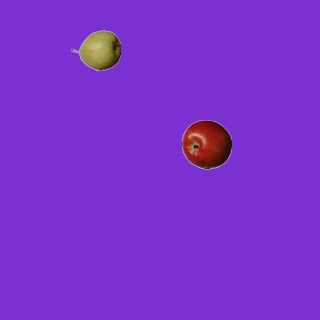Apple Braeburn: (181, 119, 231, 169)
Pear: (70, 25, 120, 75)
